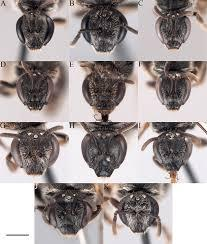Lasioglossum: (75, 118, 139, 183), (147, 124, 205, 189), (36, 183, 106, 235), (77, 56, 136, 117), (112, 181, 168, 242), (7, 120, 64, 178), (10, 58, 65, 116), (148, 52, 197, 116), (79, 0, 137, 54), (6, 0, 58, 53), (151, 0, 202, 54)
